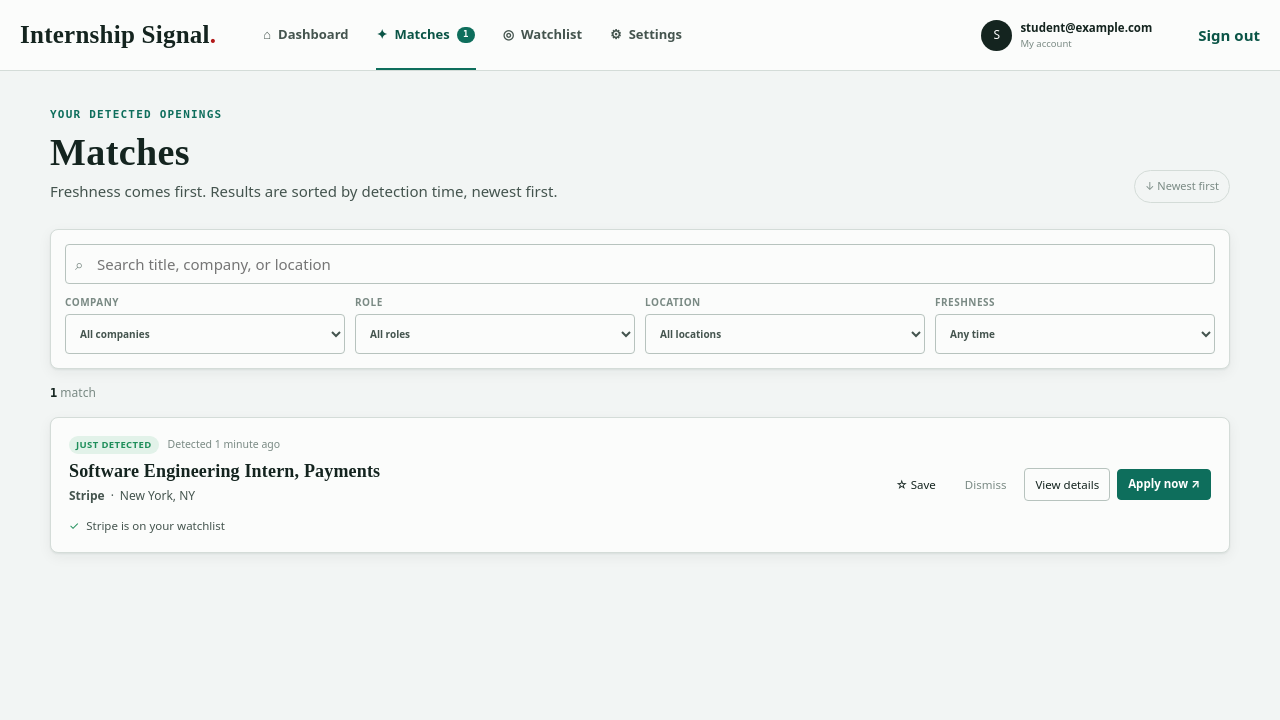
Test: hosted match views › surfaces an error when a save cannot be persisted
Check: the heading "Software Engineering Intern, Payments" is shown, box x1=69 y1=460 x2=380 y2=482
Click the button "☆ Save" at coordinates (916, 485), box x1=885 y1=468 x2=947 y2=502
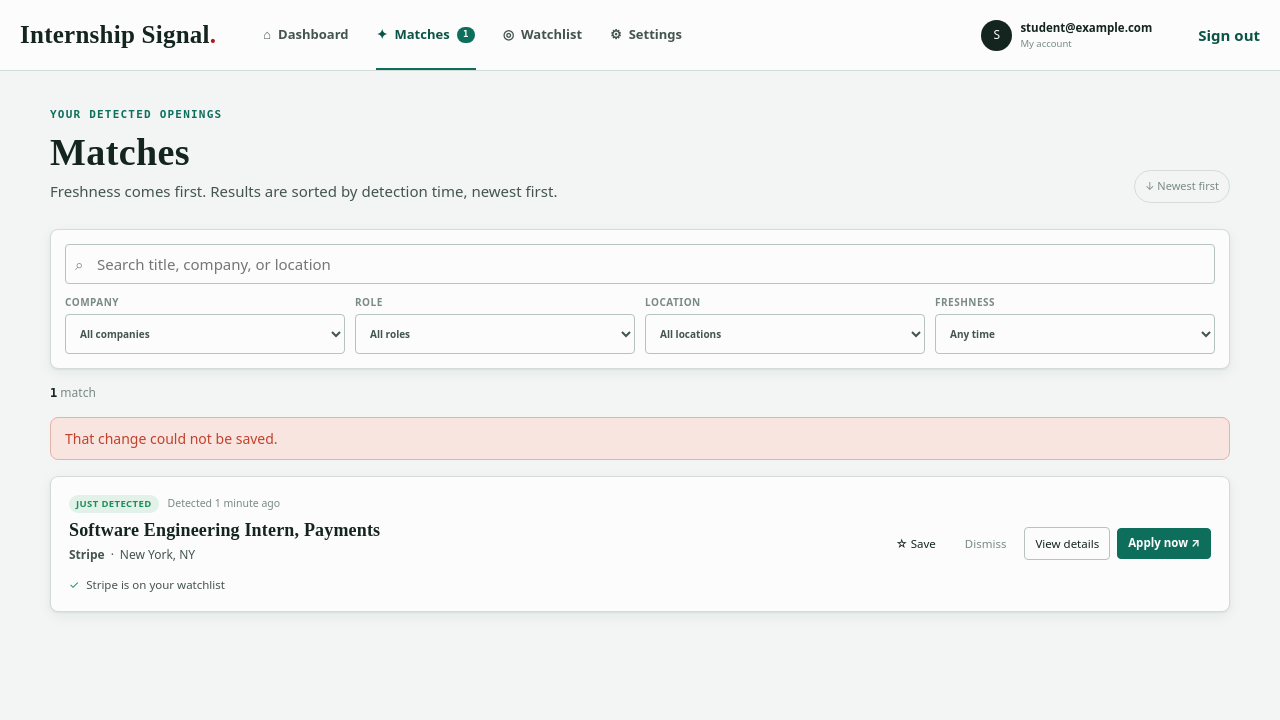
Check: the message reads "That change could not be saved.", box x1=65 y1=429 x2=278 y2=448
